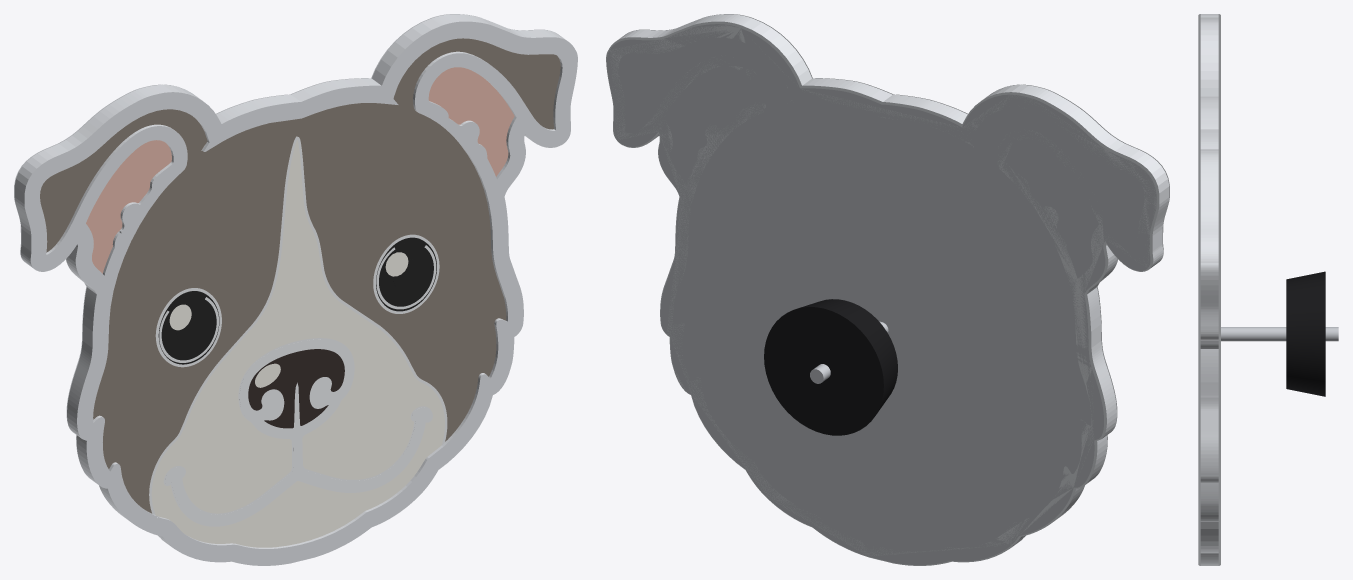
The model's file is pit-bull.glb.
3 views of the same model, side by side, from view 1: azimuth 30°, elevation 25°; view 2: azimuth 150°, elevation 25°; view 3: azimuth 270°, elevation 25° (orthographic). The views are drawn at different scales.
Visible parts, largest first — view 1: enamel_01_st7, silver_border, enamel_04_st2, silver_inlay_05_st4, silver_line_04, enamel_02_st5, enamel_03_st5, enamel_06_st8, enamel_09_st1, enamel_13_st1, silver_line_06; view 2: base_plate, silver_border, rubber_clutch; view 3: silver_border, rubber_clutch, pin_post.
Boxes of the visible parts, left/top/right/bottom form: enamel_01_st7: left=40, top=38, right=560, bottom=513; silver_border: left=14, top=14, right=577, bottom=565; enamel_04_st2: left=151, top=140, right=444, bottom=547; silver_inlay_05_st4: left=165, top=339, right=431, bottom=525; silver_line_04: left=149, top=136, right=447, bottom=526; enamel_02_st5: left=428, top=67, right=514, bottom=176; enamel_03_st5: left=86, top=140, right=171, bottom=273; enamel_06_st8: left=248, top=349, right=344, bottom=428; enamel_09_st1: left=379, top=242, right=433, bottom=306; enamel_13_st1: left=161, top=296, right=216, bottom=360; silver_line_06: left=245, top=346, right=347, bottom=430; base_plate: left=606, top=24, right=1156, bottom=564; silver_border: left=606, top=14, right=1169, bottom=565; rubber_clutch: left=764, top=299, right=897, bottom=435; silver_border: left=1198, top=14, right=1220, bottom=565; rubber_clutch: left=1286, top=271, right=1325, bottom=396; pin_post: left=1221, top=327, right=1338, bottom=341.
Size of the model in its own units: 0.0443 by 0.0383 by 0.0107.
